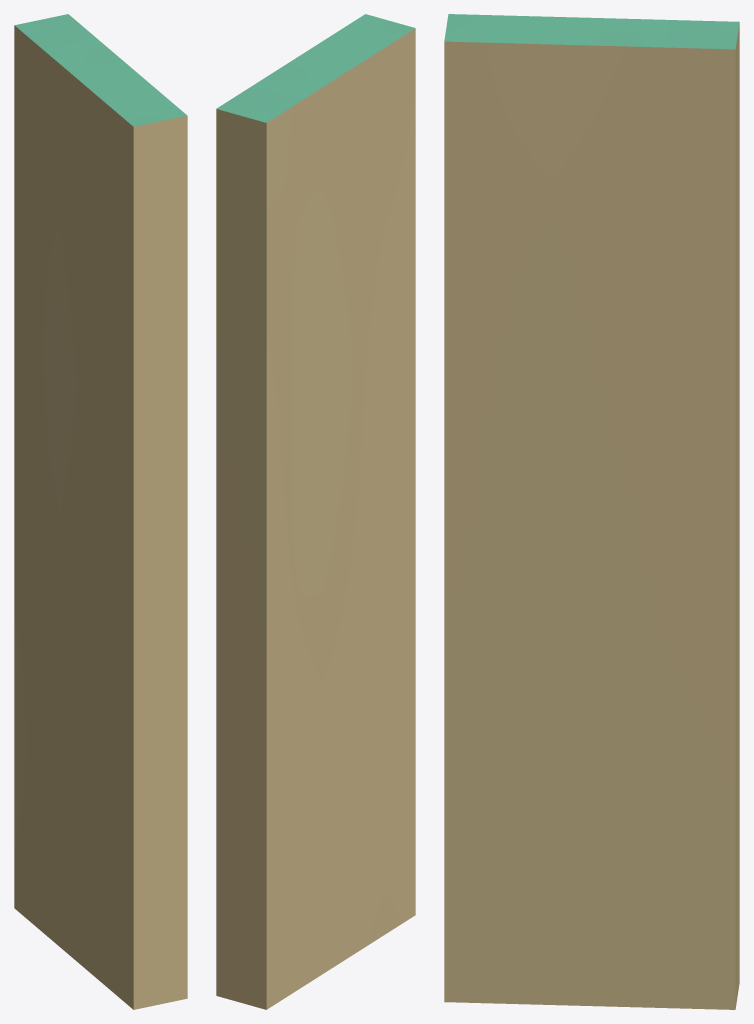
Rendered from Blocks-170.fbx.
The picture shows the model from 3 angles, left to right: view 1: azimuth 30°, elevation 25°; view 2: azimuth 150°, elevation 25°; view 3: azimuth 270°, elevation 25°; orthographic projection. The views are drawn at different scales.
Parts seen in each view (by area): view 1: Blocks-170; view 2: Blocks-170; view 3: Blocks-170.
Part boxes in pixels (x1,y1,x2,y2): Blocks-170: [14, 14, 187, 1009]; Blocks-170: [216, 14, 415, 1009]; Blocks-170: [444, 14, 739, 1009].
Size of the model in its own units: 2511 by 31764 by 8854.
